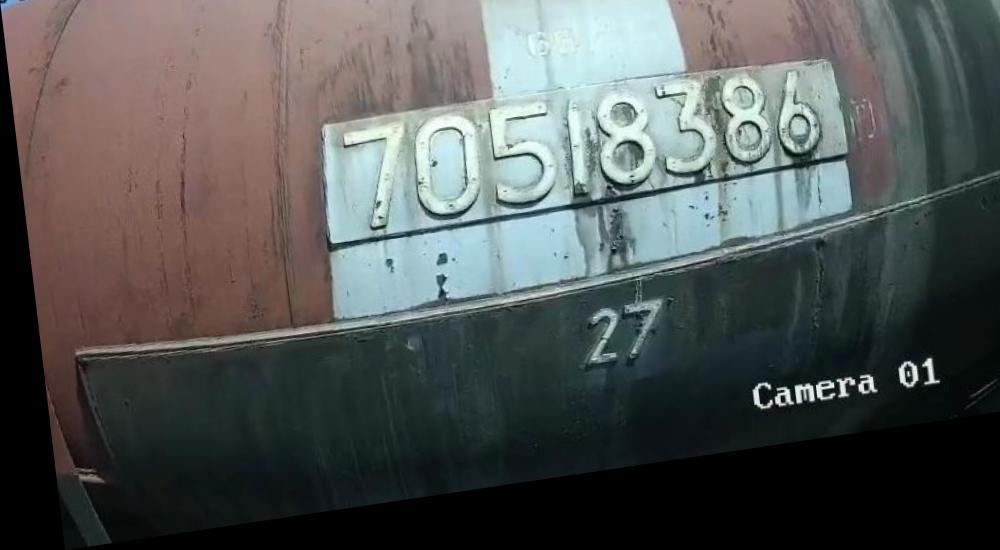Wagon-number: (326, 80, 825, 244)
